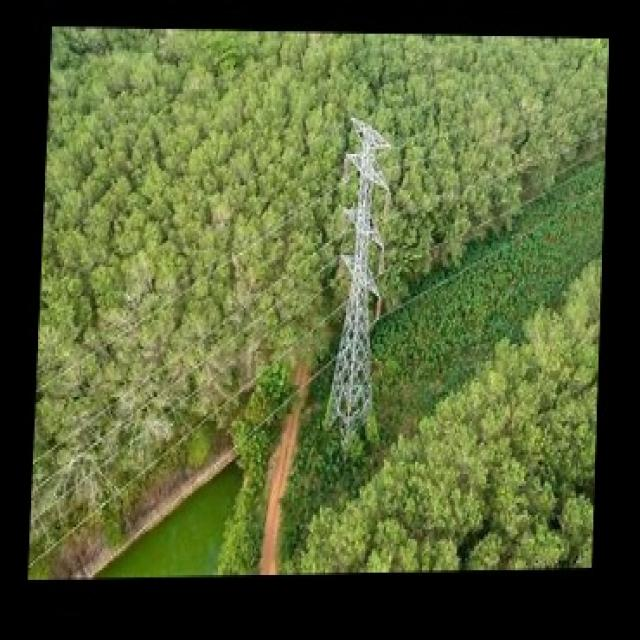utility poles: (328, 95, 394, 451)
